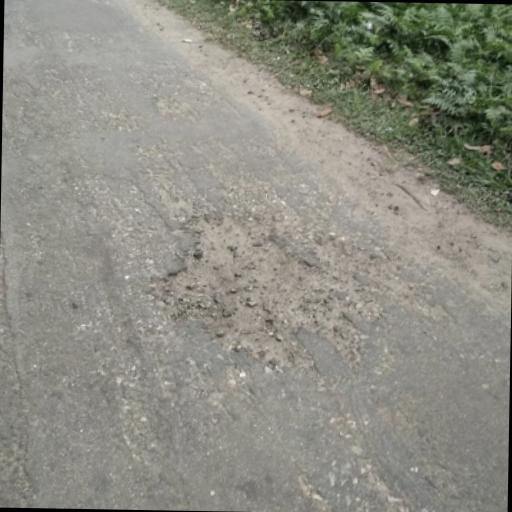pothole: (157, 208, 339, 362)
